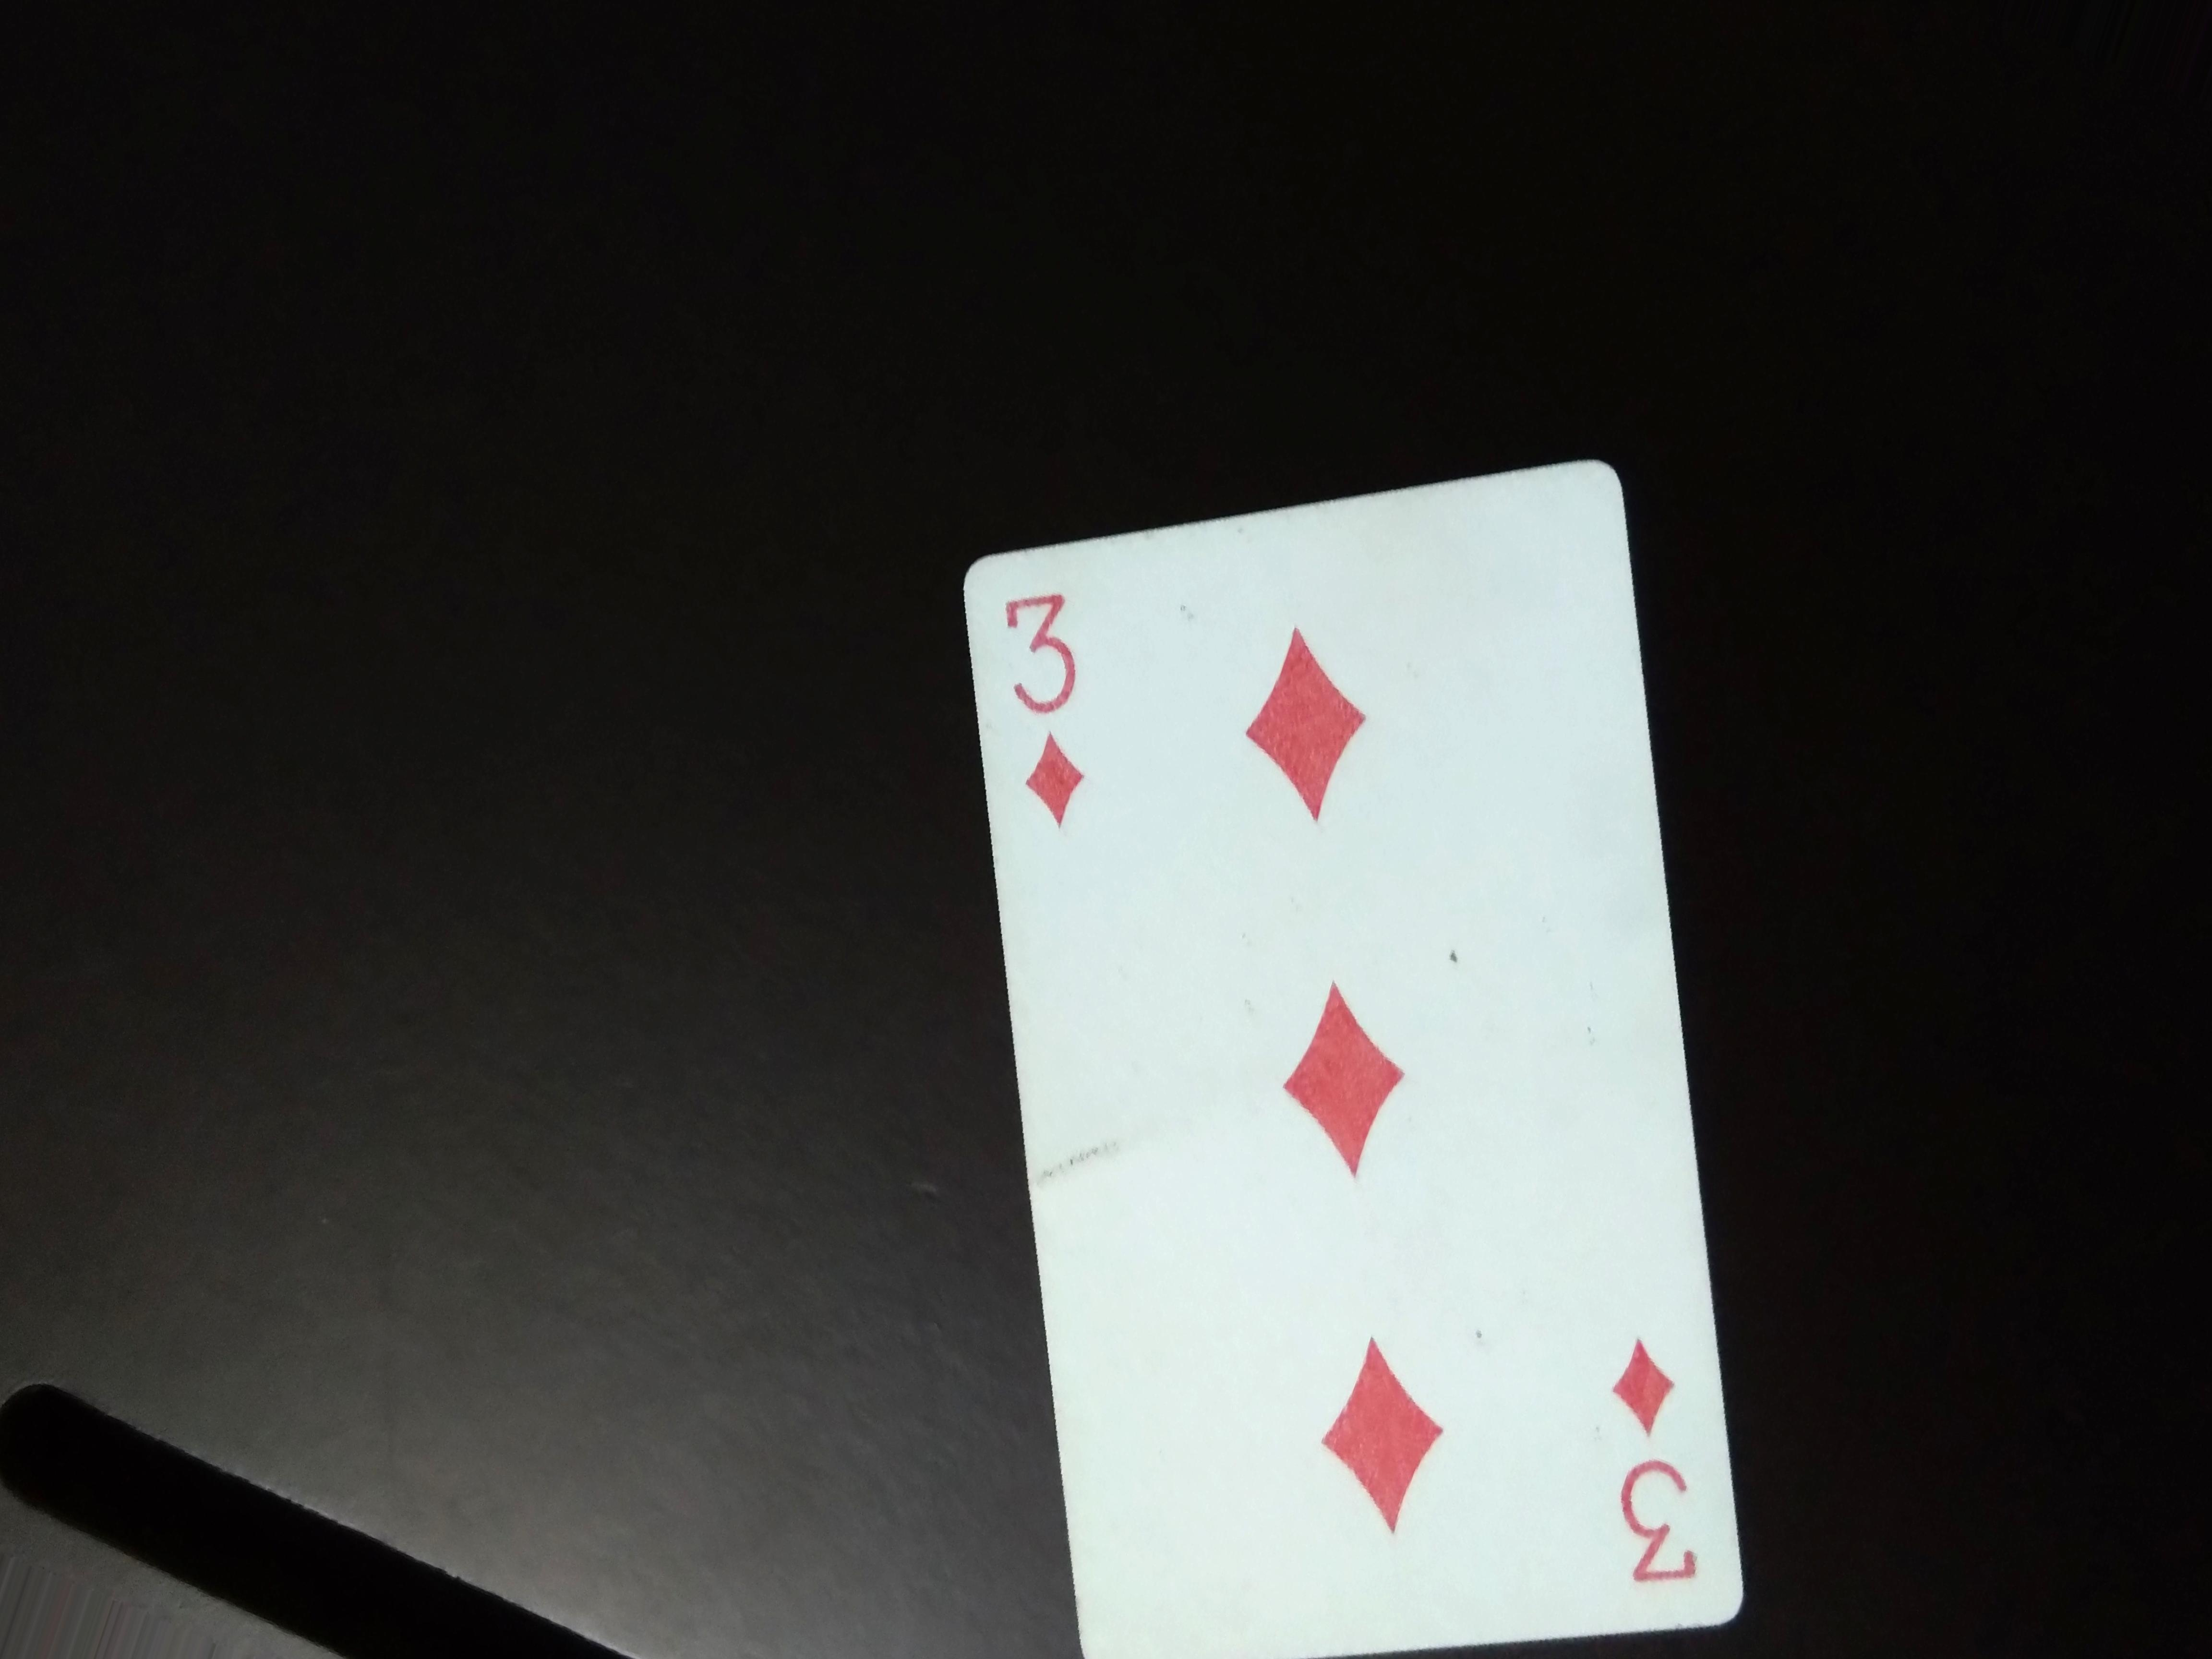3D: (981, 573, 1129, 866)
